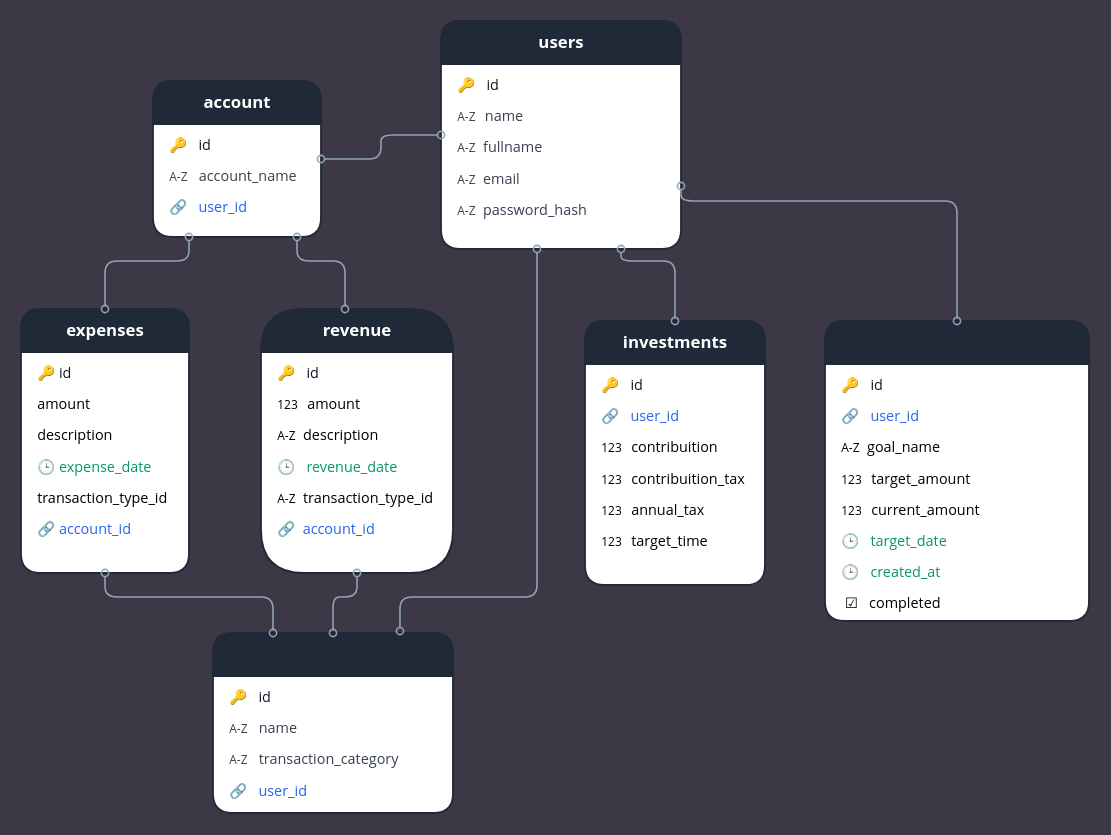
Some shapes in this 1111 by 835 pixel diagram are drawn without their labels. Here are the shapes that lost their labels. From the top down, the box of each, then its label:
(824, 320, 1089, 621): saving_goal
(212, 632, 453, 813): transaction_type
